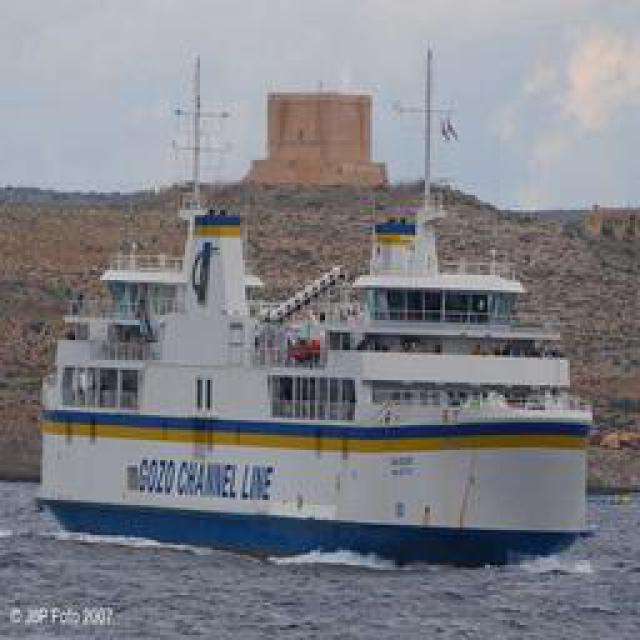Ship: (49, 147, 592, 567)
